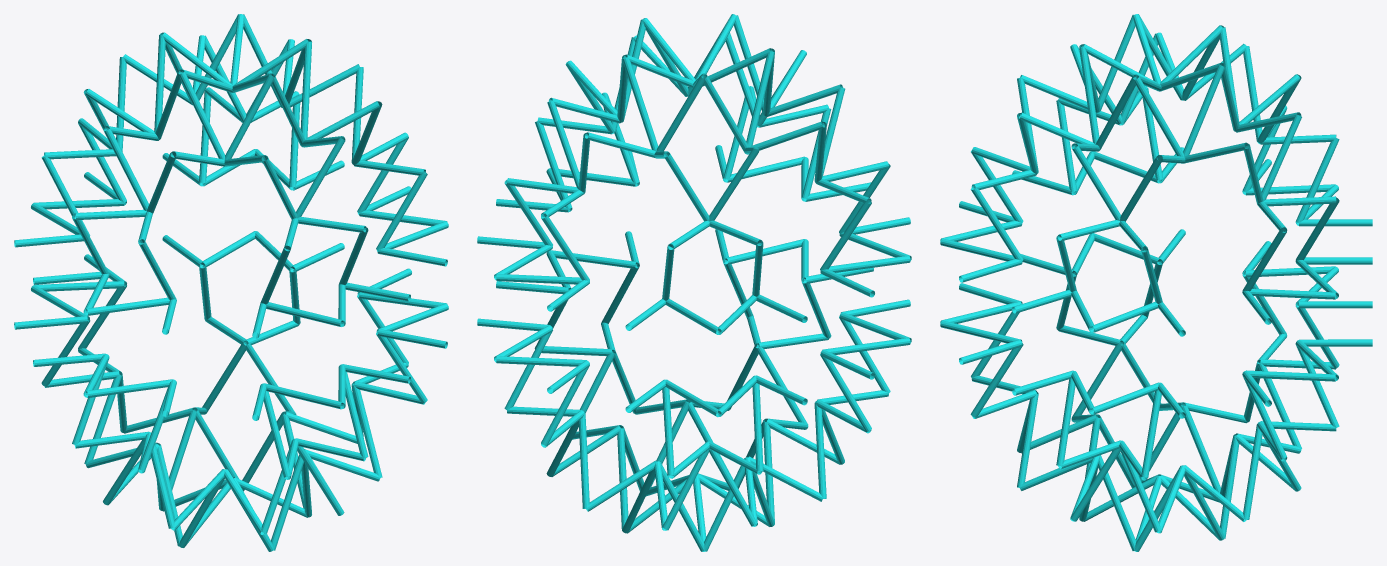
File: trinexus3_2.glb
The picture shows the model from 3 angles, left to right: view 1: azimuth 30°, elevation 25°; view 2: azimuth 150°, elevation 25°; view 3: azimuth 270°, elevation 25°; orthographic projection.
Parts seen in each view (by area): view 1: Mesh_76.003; view 2: Mesh_76.003; view 3: Mesh_76.003.
Boxes of the visible parts, x1,y1,x2,y2 form: Mesh_76.003: (14,14,448,551); Mesh_76.003: (477,14,911,551); Mesh_76.003: (940,14,1372,551).
Size of the model in its own units: 7.21 by 8.73 by 7.17.
